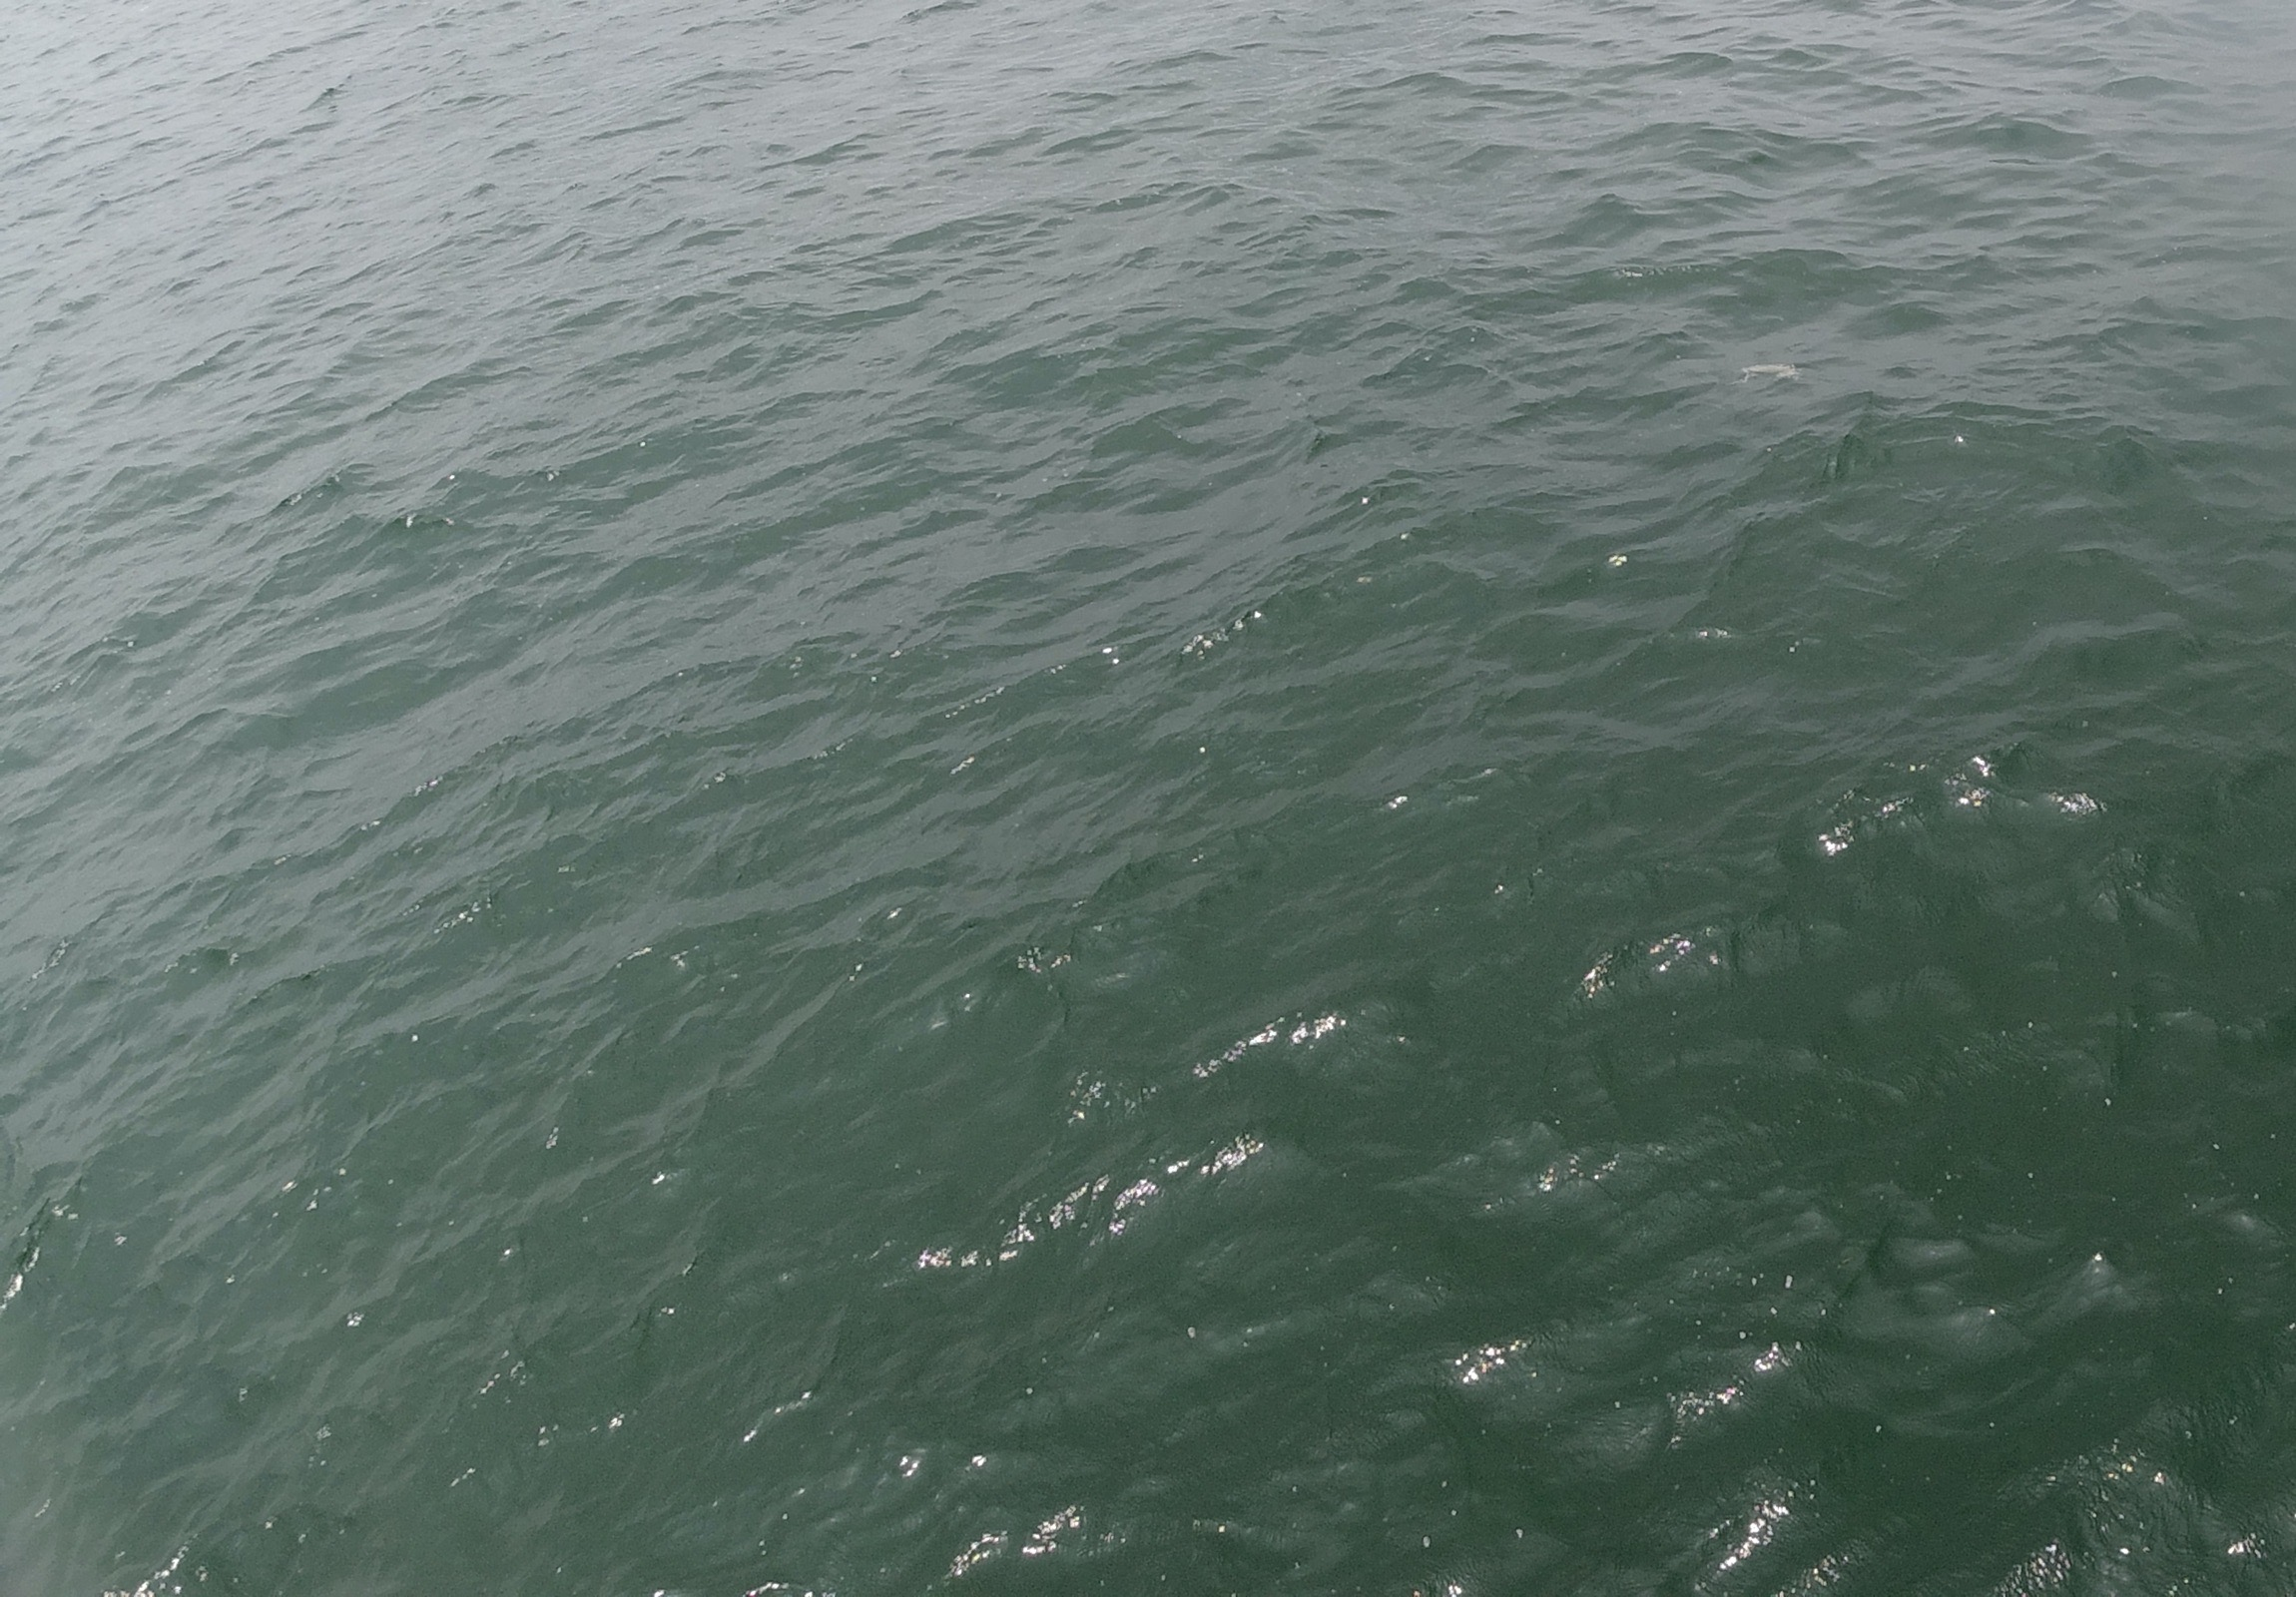plastic: (1722, 358, 1811, 398)
